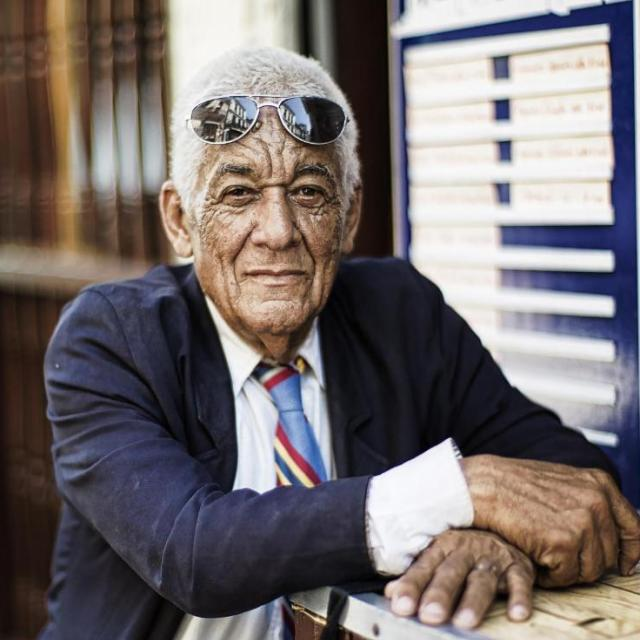Glasses: (180, 95, 356, 155)
